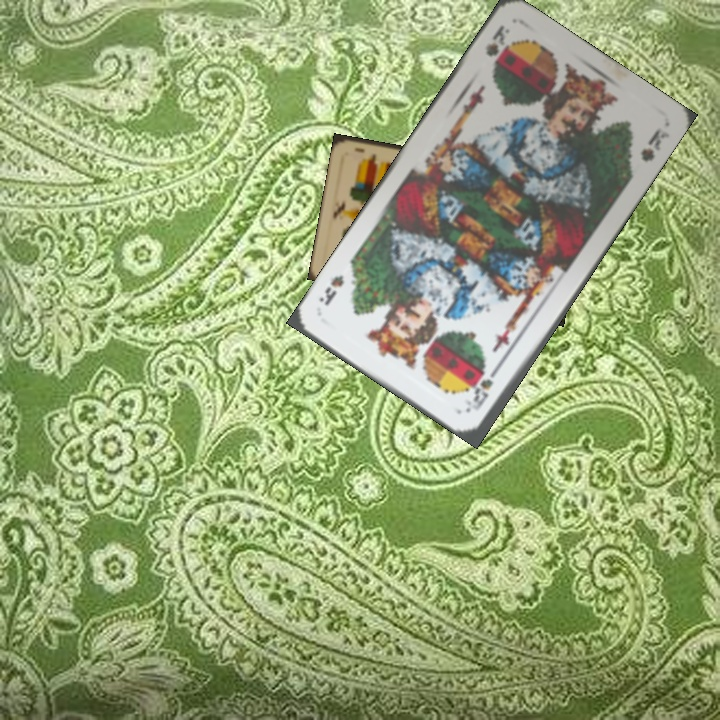SK: (463, 360, 503, 414), (481, 20, 512, 68)
